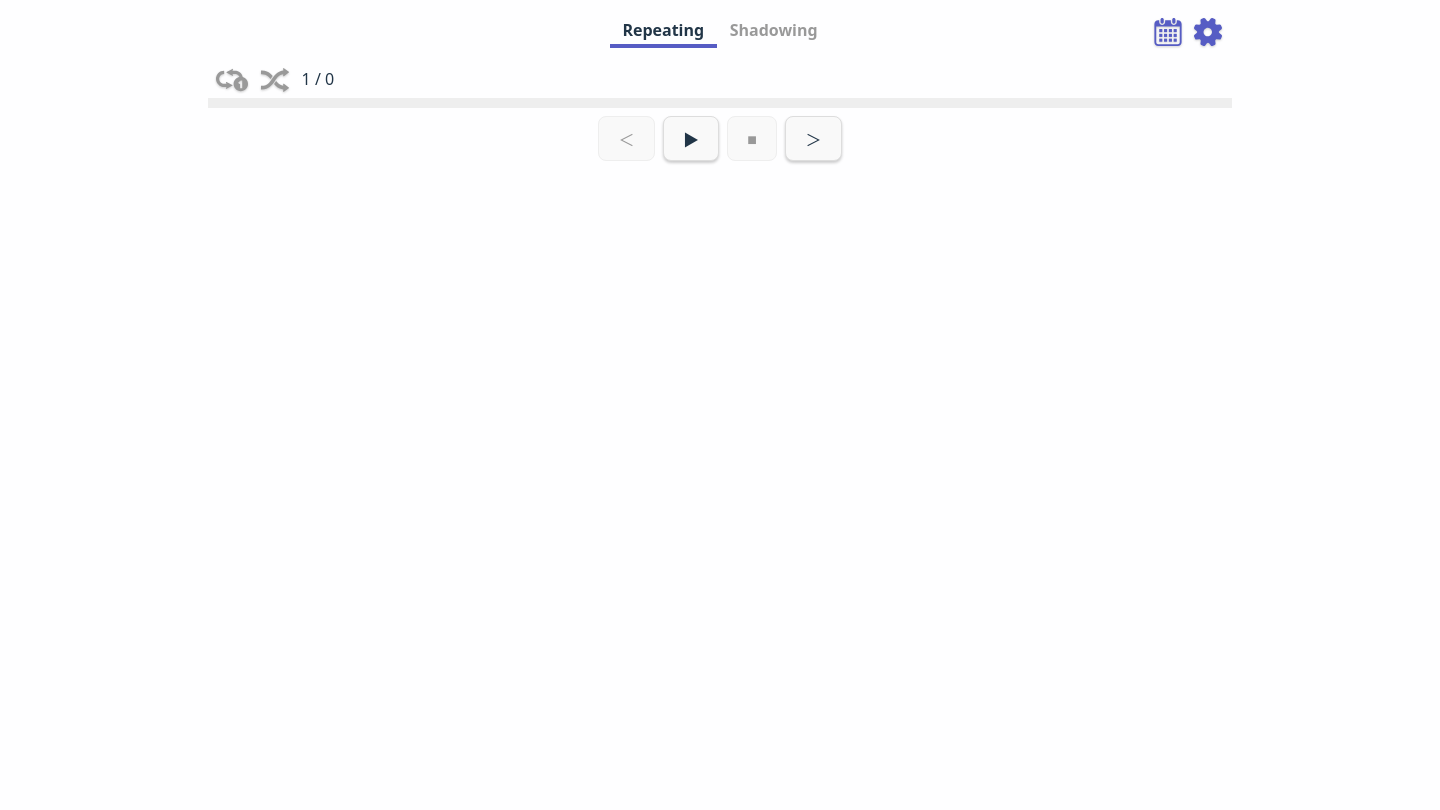
Test: SECTION一覧 › 1つ以上チェックされているとき、閉じるボタンを押すとモーダルウインドウが閉じる
Click the button named "設定" at (1208, 32), box [1192, 16, 1224, 48]
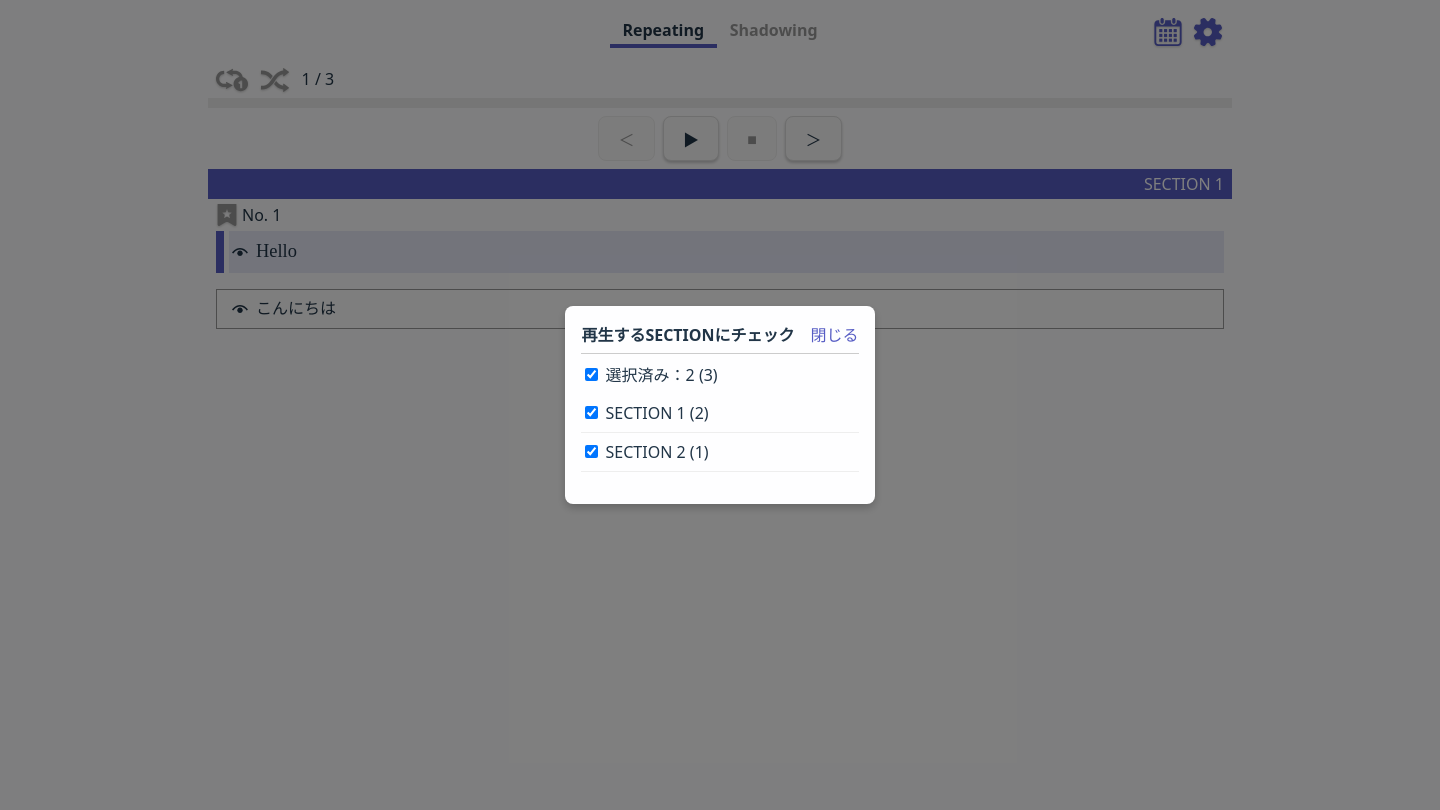
Now the heading "再生するSECTIONにチェック" is shown, box [581, 322, 859, 354]
Now the checkbox labelled "SECTION 1 (2)" is checked, box [585, 406, 598, 419]
Click the button "閉じる" at (835, 334), box [811, 322, 859, 346]
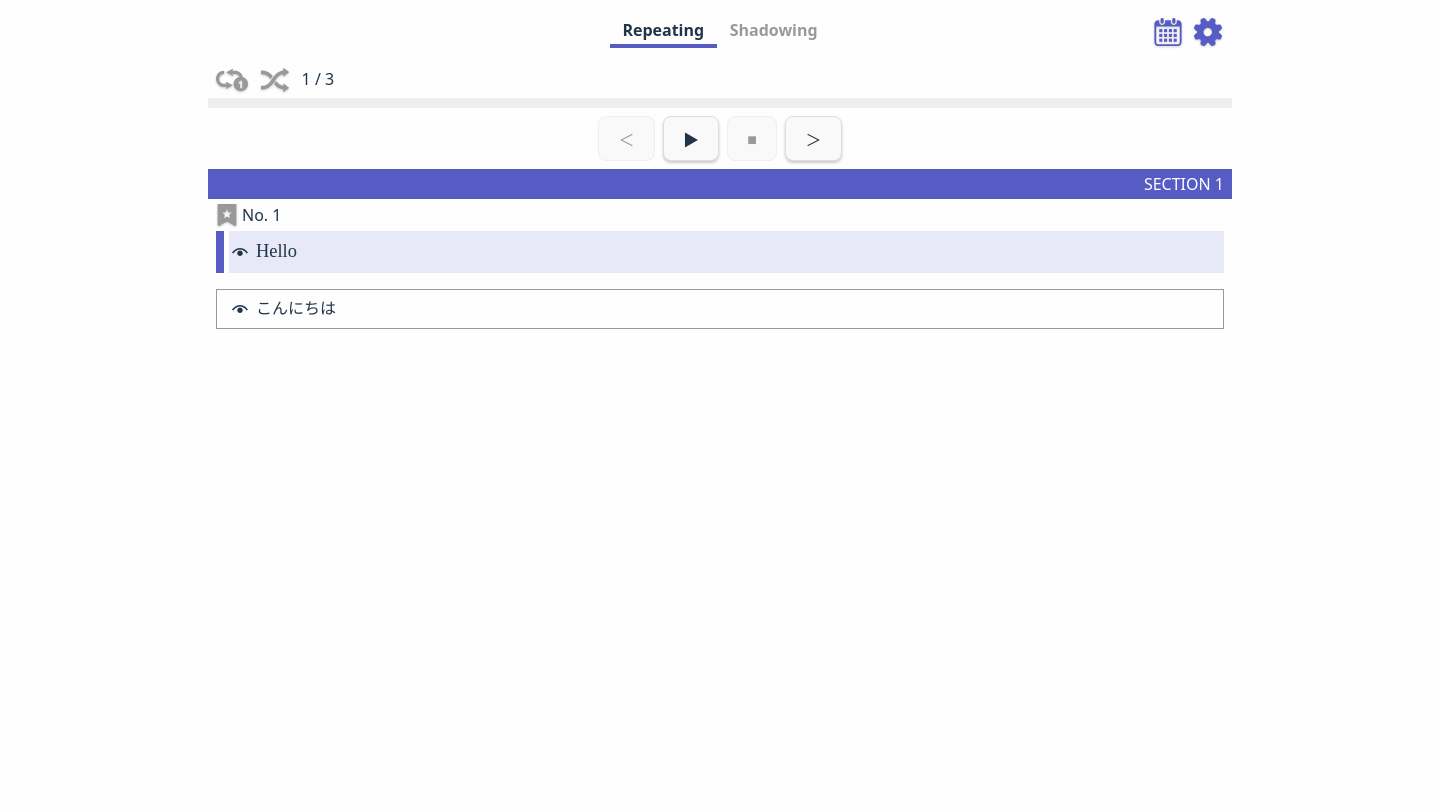
Now the heading "再生するSECTIONにチェック" is gone
